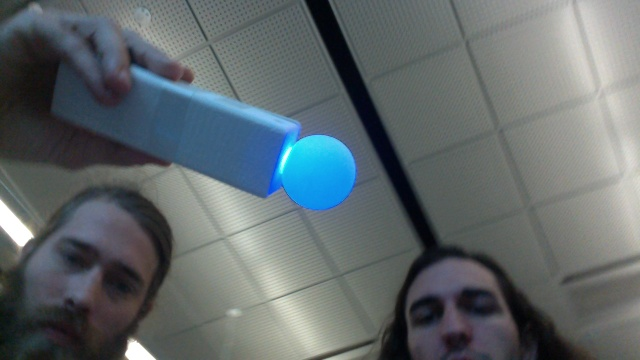wand: (283, 136, 357, 211)
